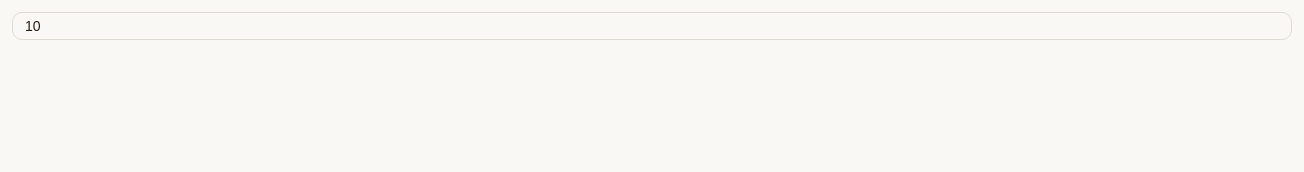
it: NumberInput › resets display to canonical value on blur
Replace the text in the number field with "abc". click: (652, 26)
box: [12,12,1292,40]
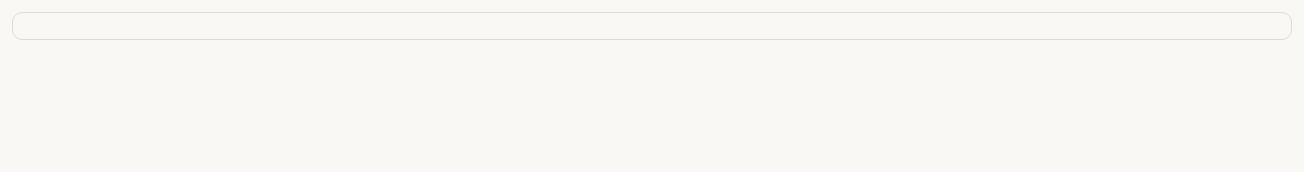
Leave the number field, box [12,12,1292,40]
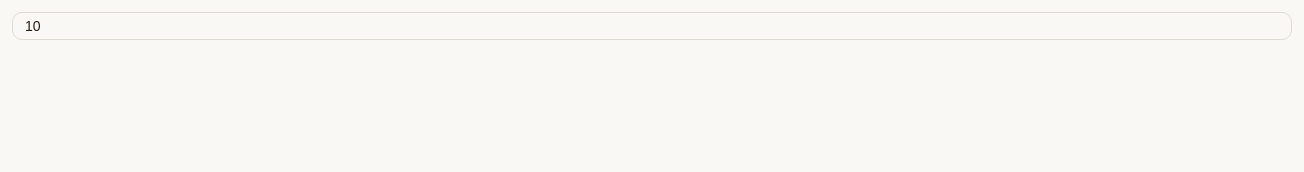
Result: the number field holds "10" at [12,12,1292,40]
